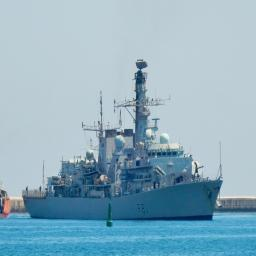Fragata: (22, 59, 224, 223)
